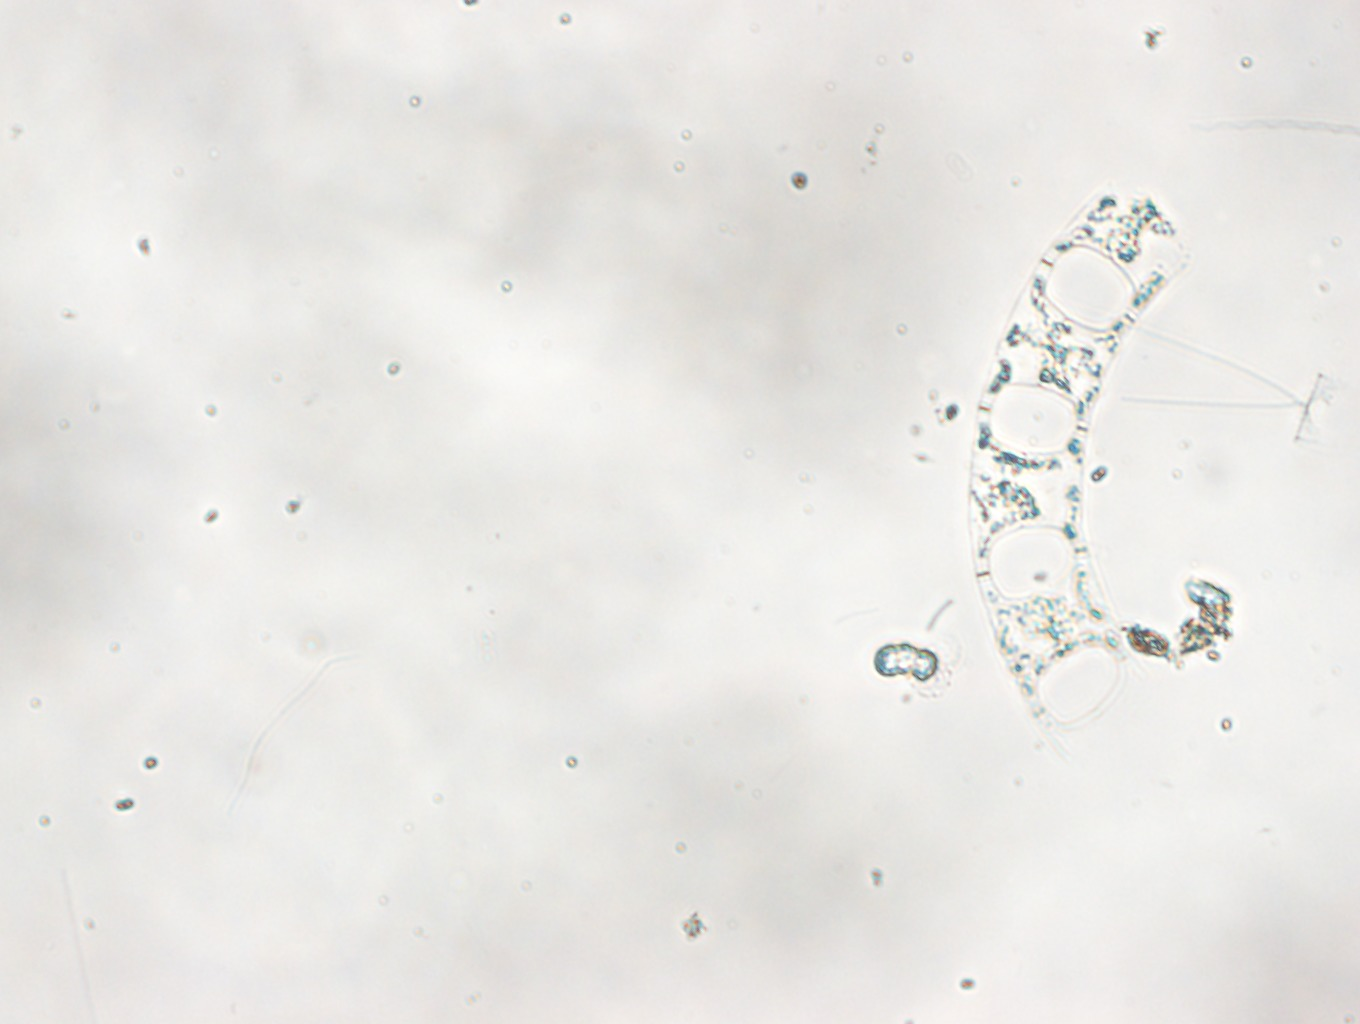eucampia: (959, 163, 1196, 740)
